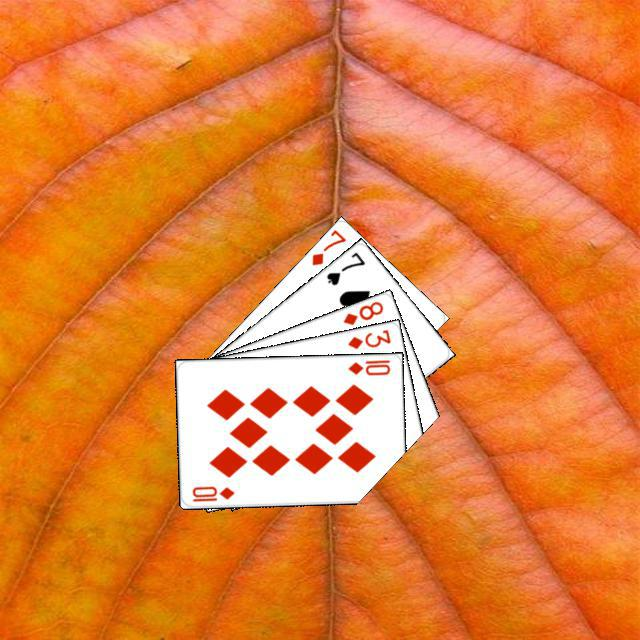10d: (343, 355, 392, 377), (187, 481, 236, 503)
3d: (343, 325, 392, 351)
7d: (307, 225, 348, 267)
7s: (321, 247, 367, 287)
8d: (338, 296, 385, 327)
